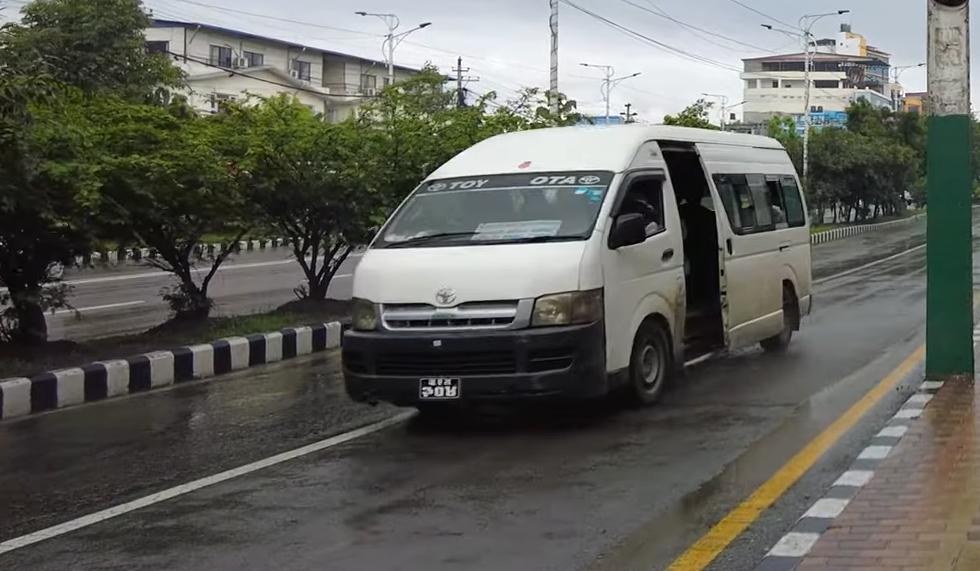micro_bus: (332, 114, 816, 428)
